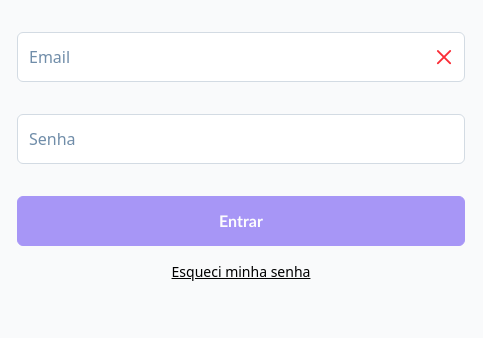
Scenario: Login Component › Error Handling › displays error message for InvalidPasswordException
In the field labelled "Email": (241, 57) [17, 32, 465, 82], type "john@example.com"
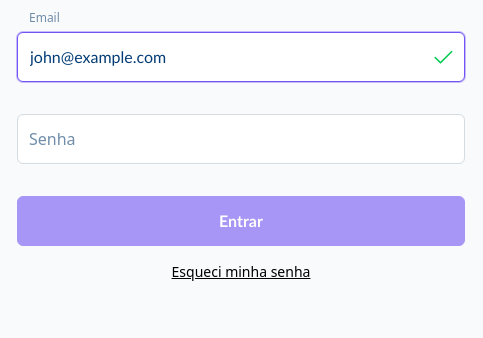
In the password field labelled "Senha": (241, 139) [17, 114, 465, 164], type "wrongpassword"
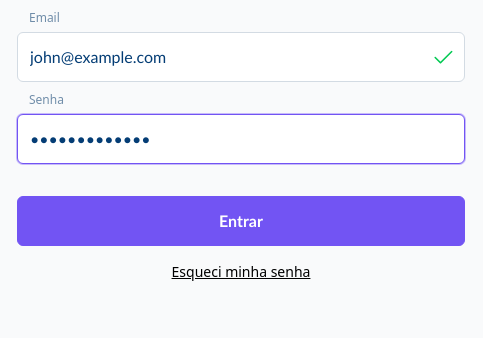
Click the button "Entrar": (241, 221) [17, 196, 465, 246]
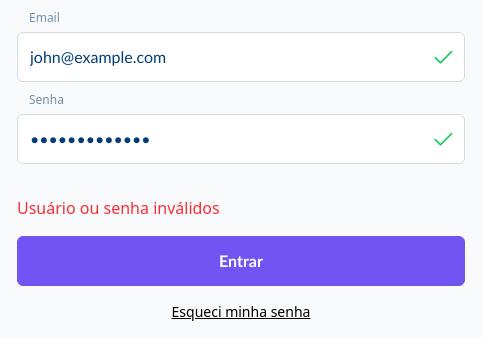
expect the text "Usuário ou senha inválidos" is shown: met, box [17, 197, 220, 219]
